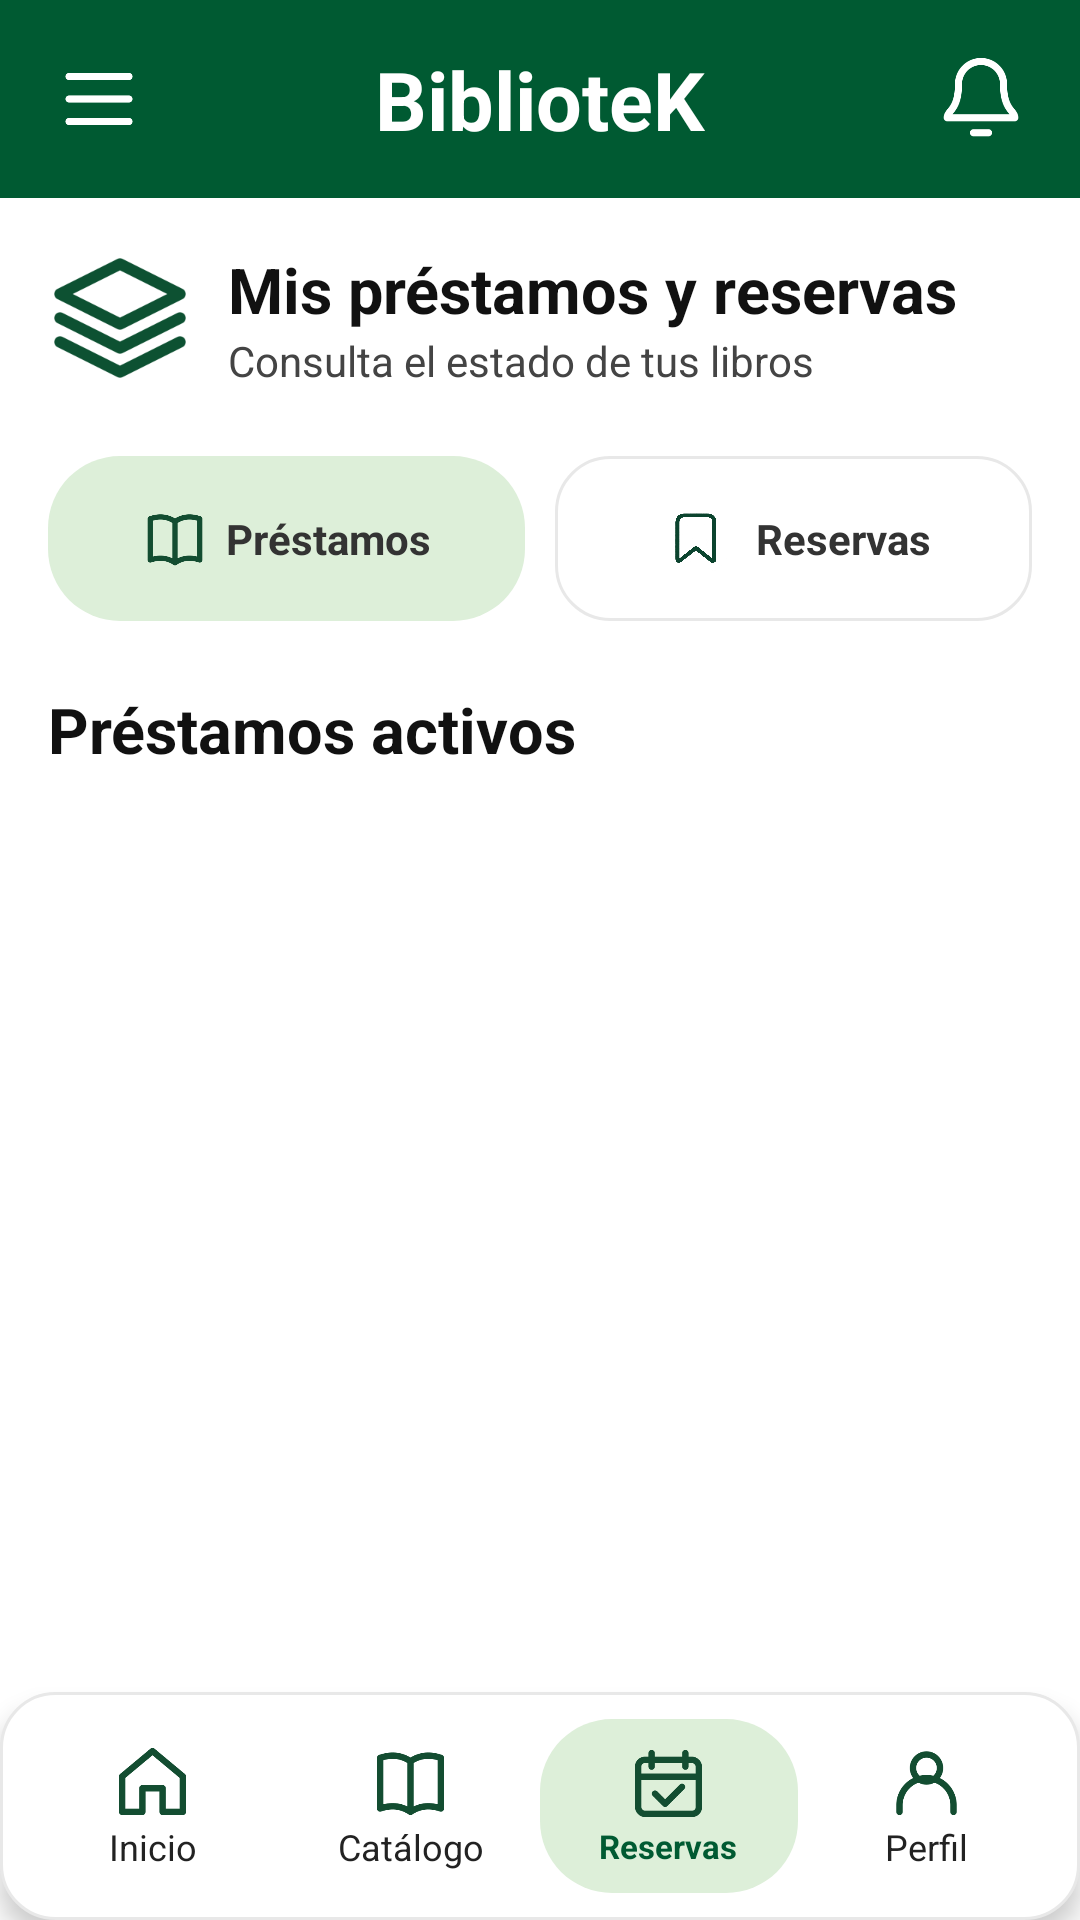

Screen size 1080x1920. Icon name, then its center in pixels as [x,y]:
capas: [120,318]
marcador: [695,538]
Menú: [99,99]
Notificaciones: [981,97]
